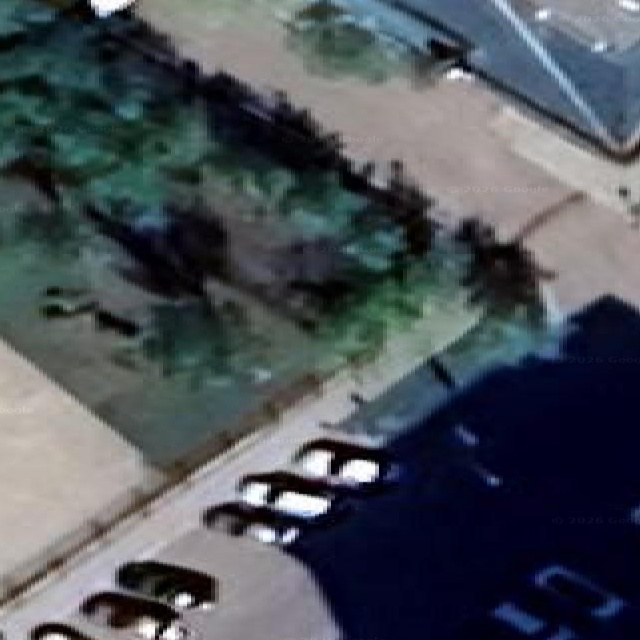car: (238, 471, 344, 523), (80, 592, 191, 639), (293, 437, 395, 488), (116, 560, 216, 609), (203, 502, 304, 546), (28, 624, 91, 639)
